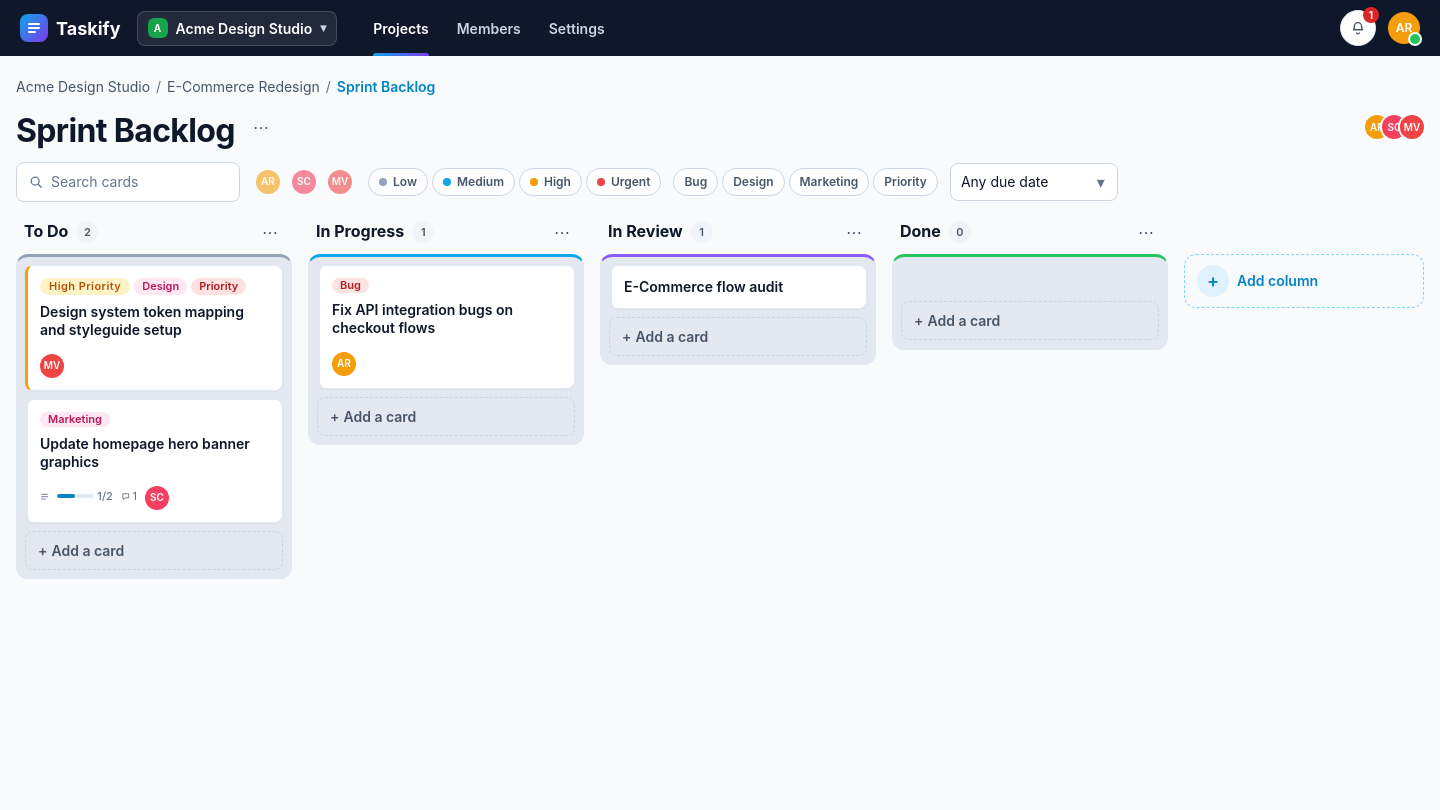
Test: board actions › deletes the board after confirmation and returns to the project
Click the button named "Board actions" at [261, 127], box [247,113,275,141]
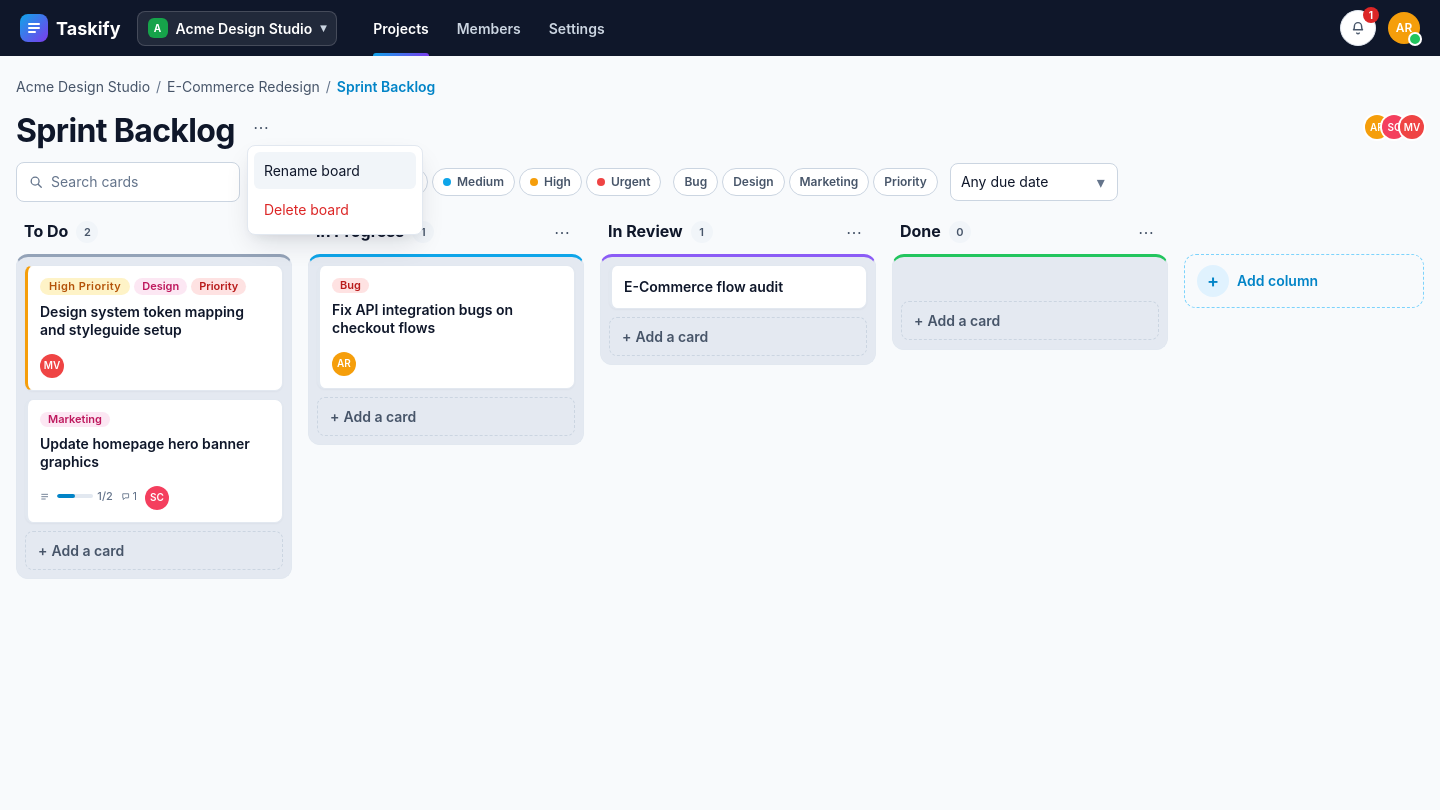
Click the menu item "Delete board" at [335, 210], box [254,191,416,228]
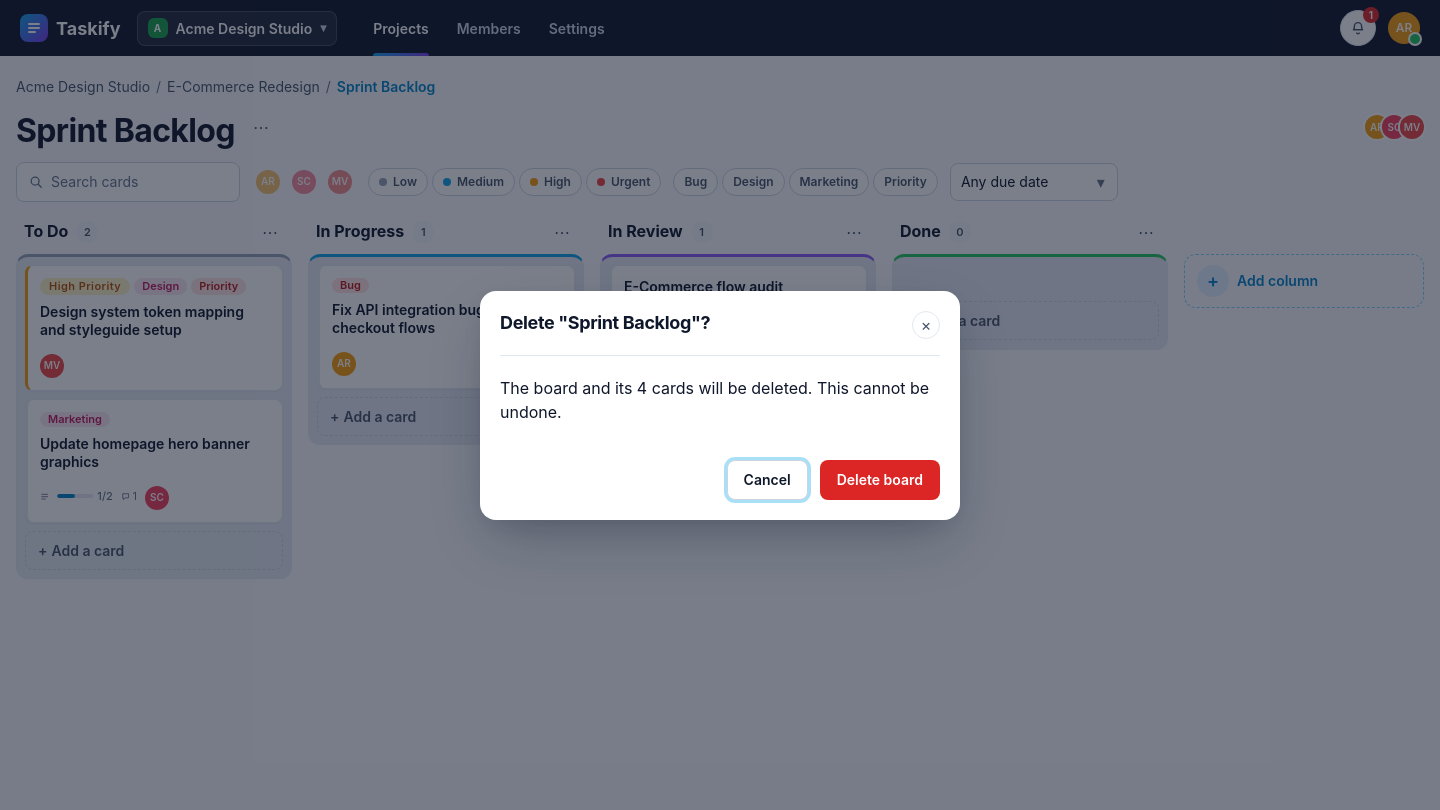
Click the button "Delete board" at [880, 480], box [820,460,940,500]
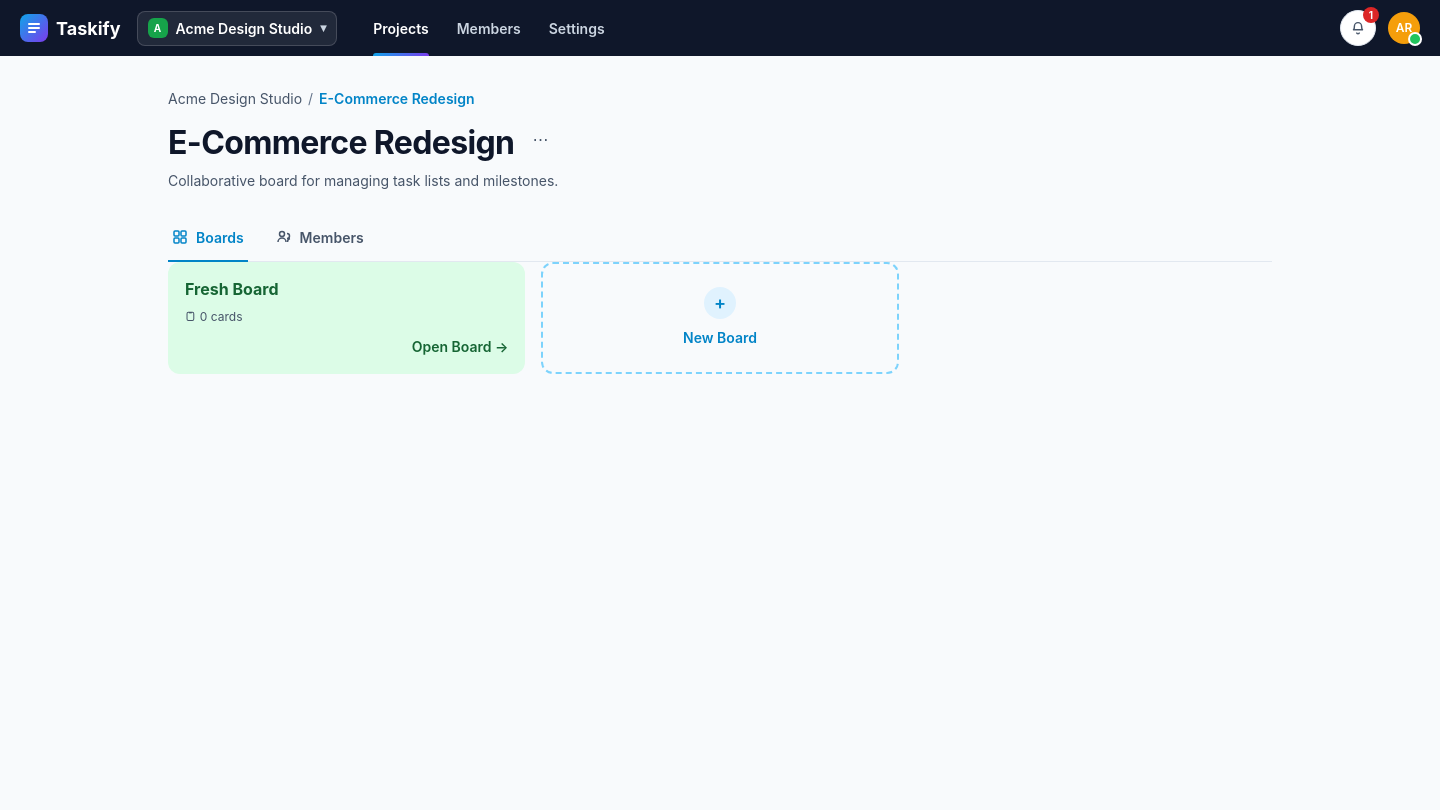
Result: the tab "Boards" is shown at [168,215,248,262]
Result: the text "Sprint Backlog" is gone
